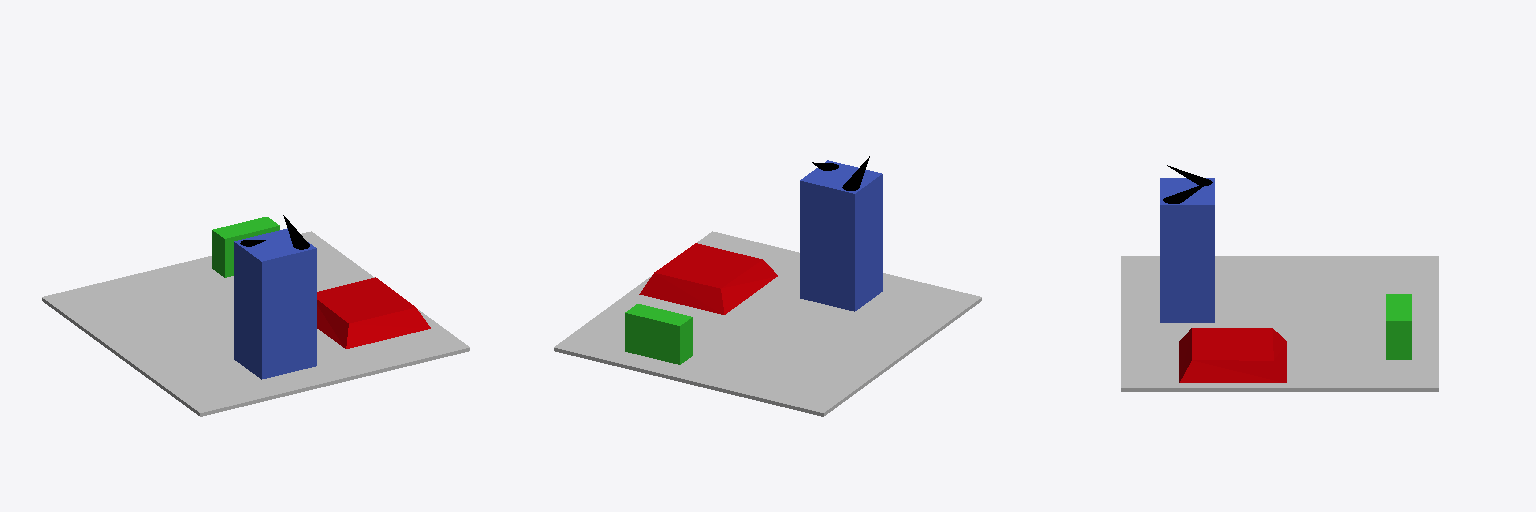
File: TestLandscape.obj
3 views of the same model, side by side, from view 1: azimuth 30°, elevation 25°; view 2: azimuth 150°, elevation 25°; view 3: azimuth 270°, elevation 25° (orthographic).
Visible parts, largest first — view 1: Cube, Cube.001, Cube.003, Cube.002; view 2: Cube, Cube.001, Cube.003, Cube.002; view 3: Cube, Cube.001, Cube.003, Cube.002.
Boxes of the visible parts, x1=… form: Cube: x1=42, y1=231, x2=469, y2=416; Cube.001: x1=234, y1=228, x2=316, y2=379; Cube.003: x1=317, y1=277, x2=430, y2=348; Cube.002: x1=212, y1=217, x2=279, y2=277; Cube: x1=554, y1=231, x2=981, y2=416; Cube.001: x1=800, y1=160, x2=882, y2=311; Cube.003: x1=639, y1=243, x2=777, y2=314; Cube.002: x1=625, y1=304, x2=692, y2=364; Cube: x1=1121, y1=256, x2=1438, y2=391; Cube.001: x1=1160, y1=178, x2=1214, y2=322; Cube.003: x1=1179, y1=328, x2=1286, y2=382; Cube.002: x1=1386, y1=294, x2=1411, y2=359.
Bounding box in the file's own units: 154 × 76.33 × 157.